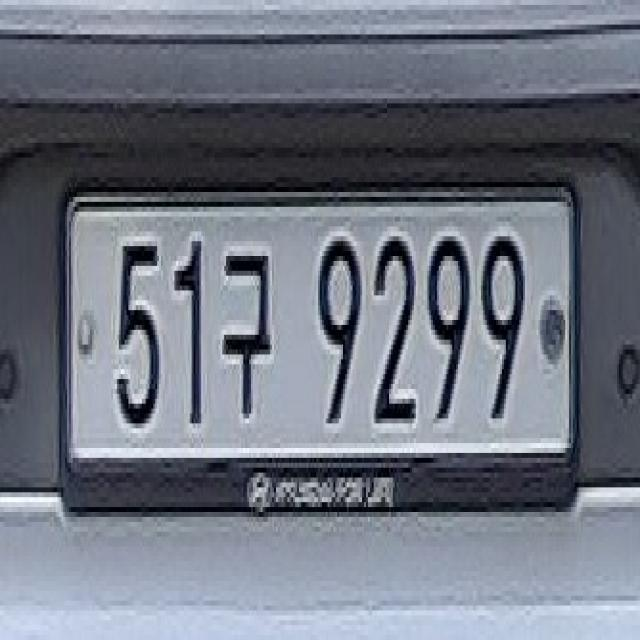1: (171, 222, 206, 450)
2: (374, 224, 426, 448)
5: (110, 227, 162, 430)
9: (317, 216, 369, 442), (480, 230, 537, 432), (428, 220, 478, 438)
gu: (219, 236, 278, 429)
license_plate: (58, 174, 581, 526)
